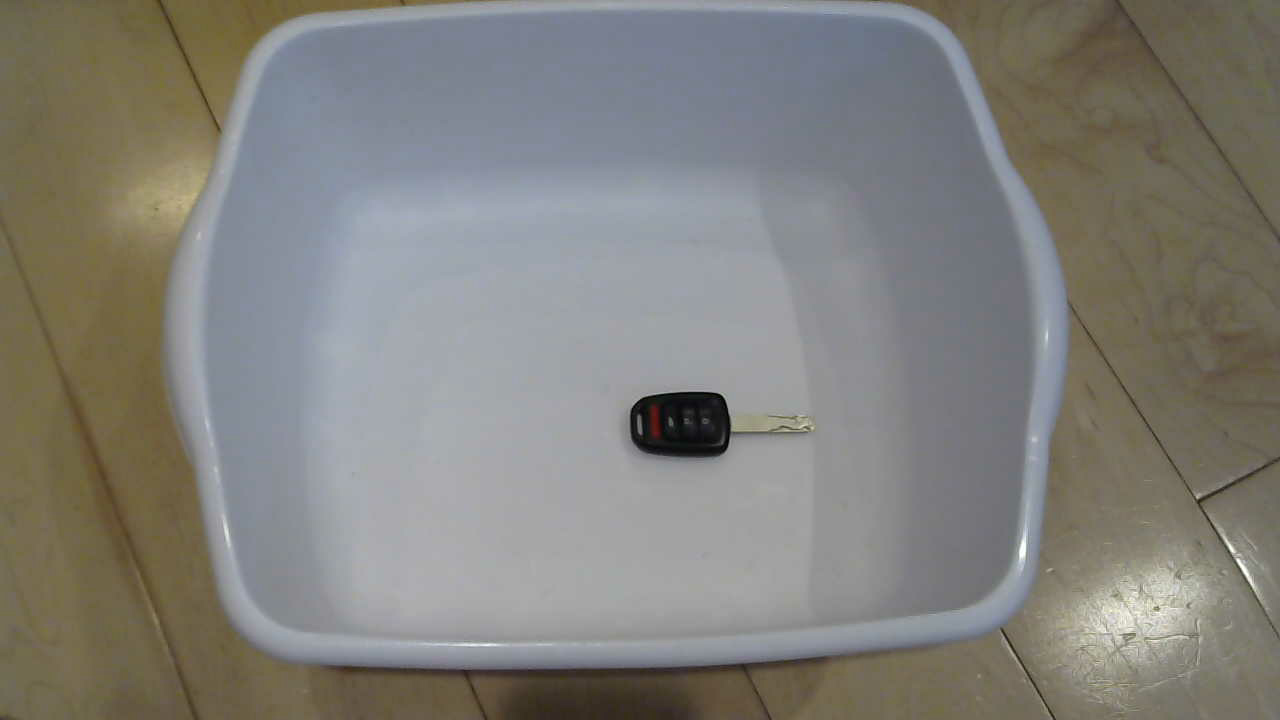key: (613, 382, 828, 471)
